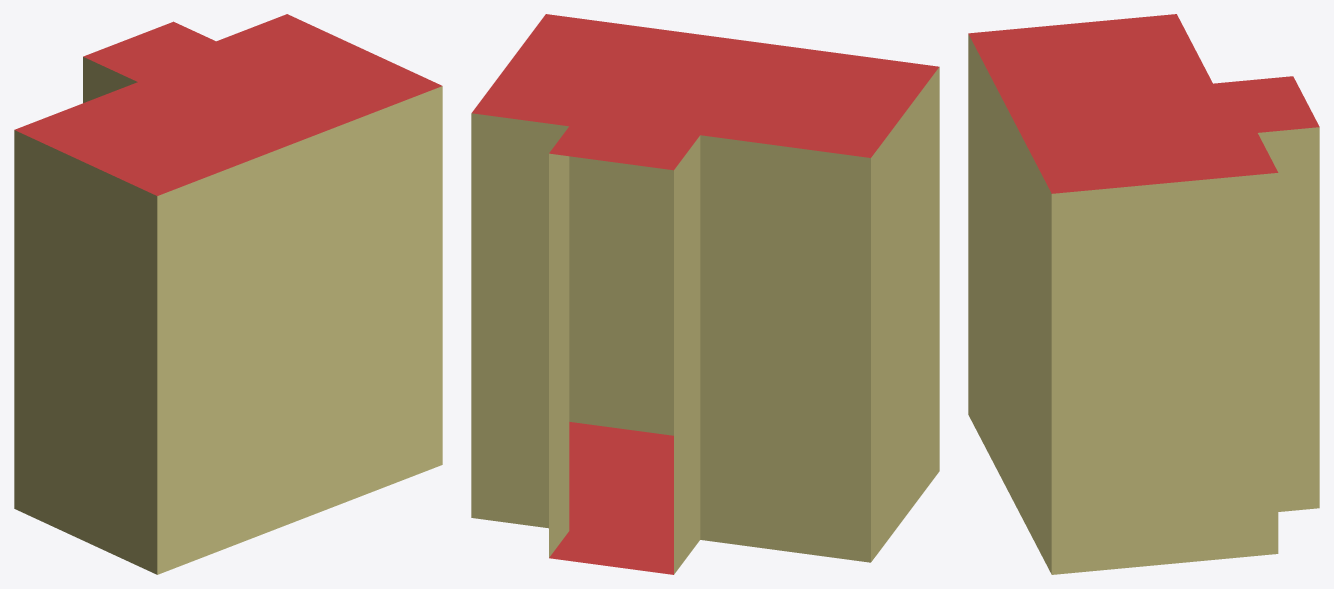
The picture shows the model from 3 angles, left to right: view 1: azimuth 30°, elevation 25°; view 2: azimuth 150°, elevation 25°; view 3: azimuth 270°, elevation 25°; orthographic projection. The views are drawn at different scales.
Size of the model in its own units: 8.42 by 6.95 by 8.31.
